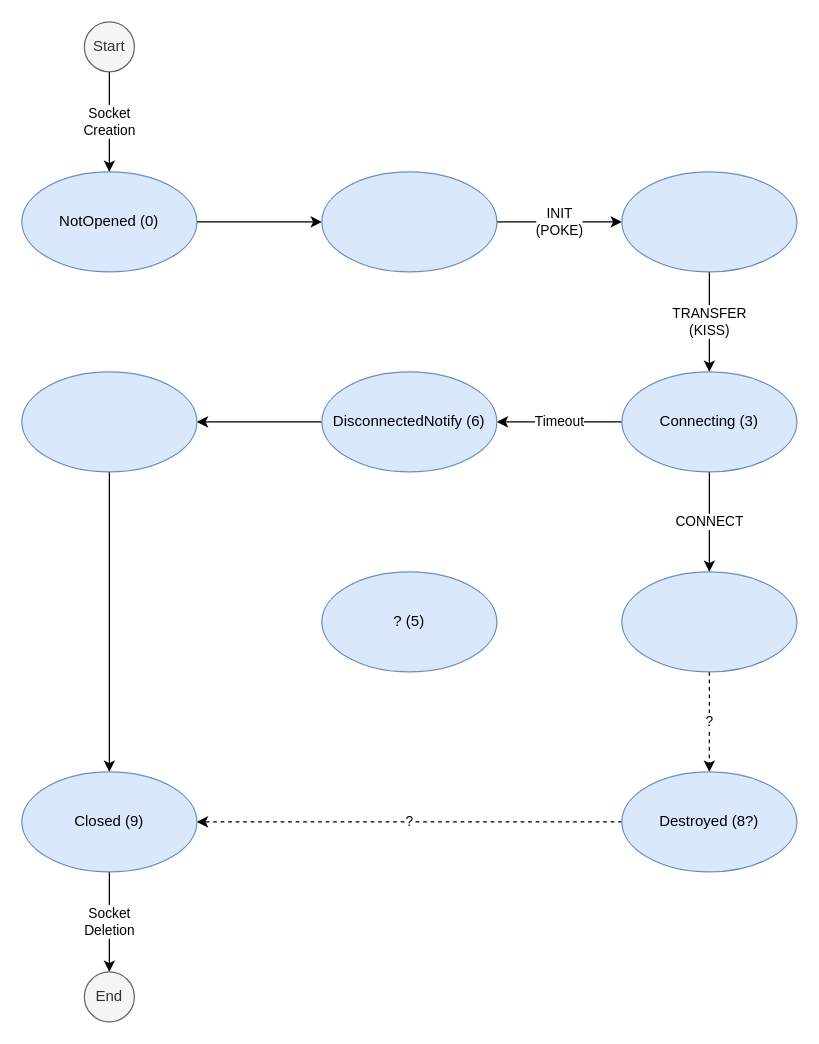
Some shapes in this 819 by 1044 pixel diagram are drawn without their labels. Each missing label, with the centre of its shape:
"Connected (4?)" goes at pixel 709 621.
"Disconnected (7)" goes at pixel 109 421.
"Initializing (1)" goes at pixel 409 221.
"Transferring (2)" goes at pixel 709 221.
